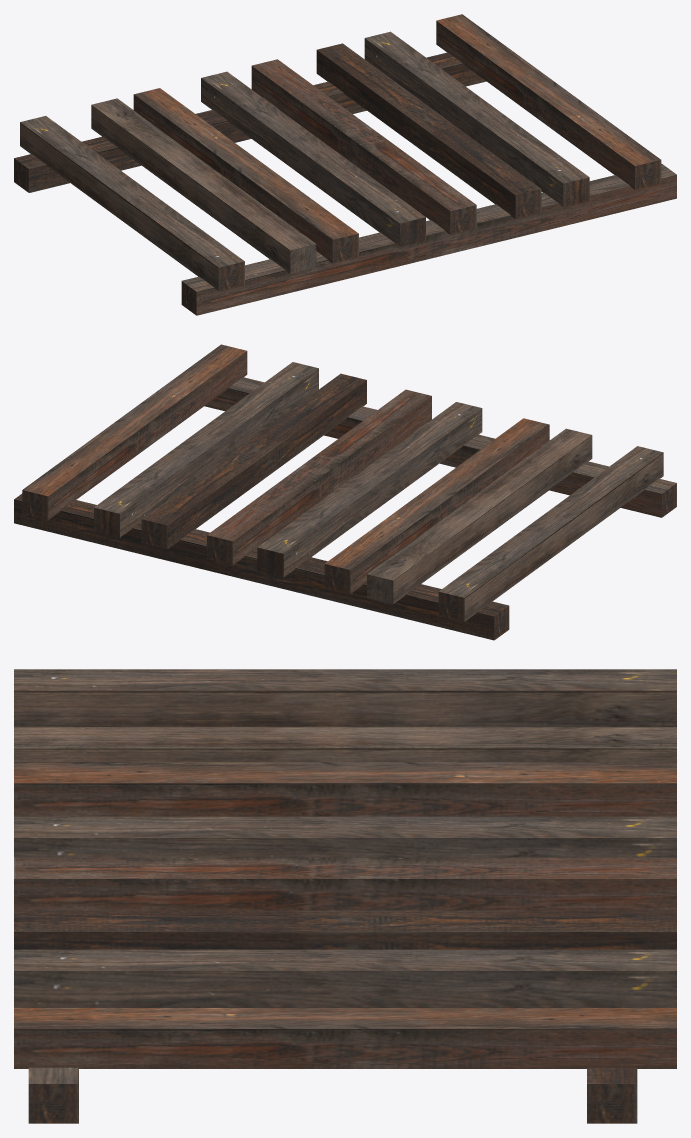
The model's file is PalletC.fbx.
3 views of the same model, one above another, from view 1: azimuth 30°, elevation 25°; view 2: azimuth 150°, elevation 25°; view 3: azimuth 270°, elevation 25° (orthographic). The views are drawn at different scales.
Parts seen in each view (by area): view 1: PalletC; view 2: PalletC; view 3: PalletC.
Part boxes in pixels (<box>): PalletC: <box>14,14,676,315</box>; PalletC: <box>14,344,676,640</box>; PalletC: <box>14,669,676,1123</box>.
Bounding box in the file's own units: 131 × 12.19 × 93.7.
